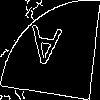A: (24, 24, 63, 76)
